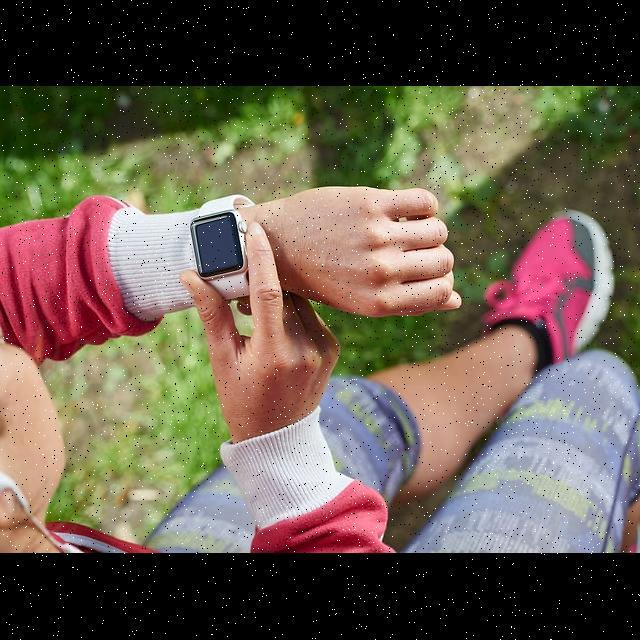watch: (187, 190, 255, 298)
